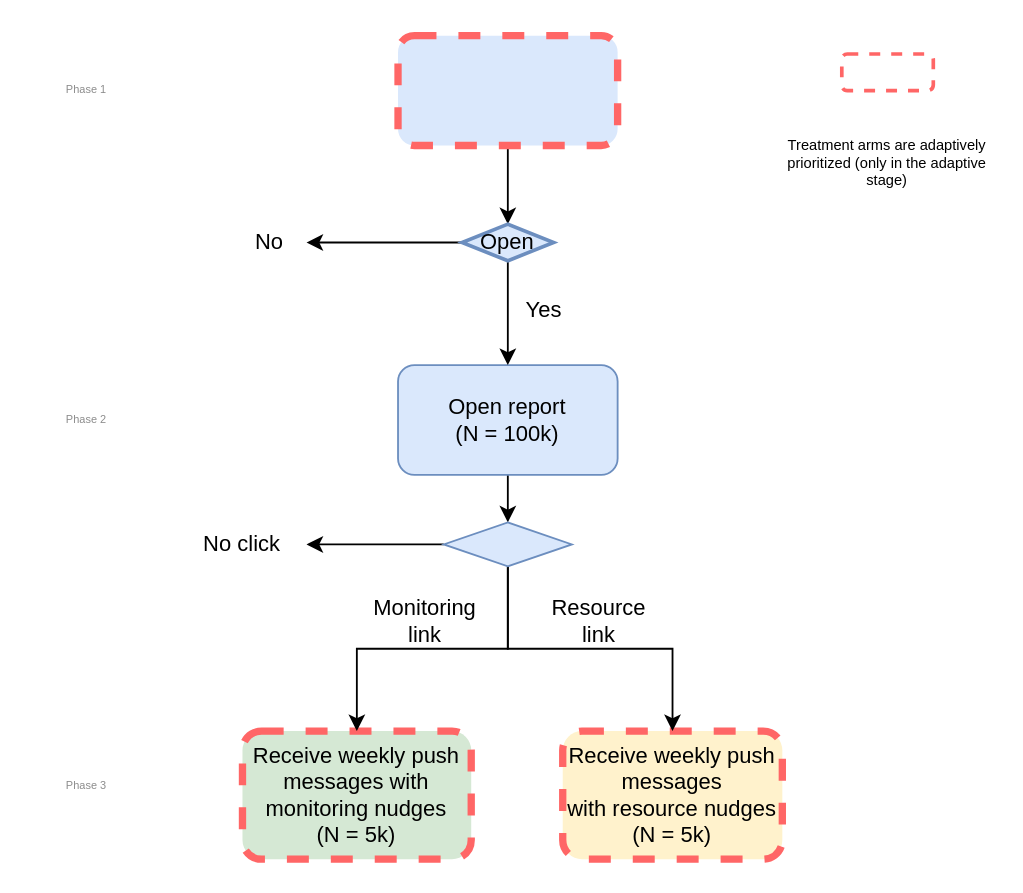
Some shapes in this 1023 by 893 pixel diagram are drawn without their labels. Here are the shapes that lost their labels. From the top down, the box of each, then its label:
(393, 31, 620, 148): Receive push message linking to report (N = 10M)
(442, 521, 572, 566): Click on
